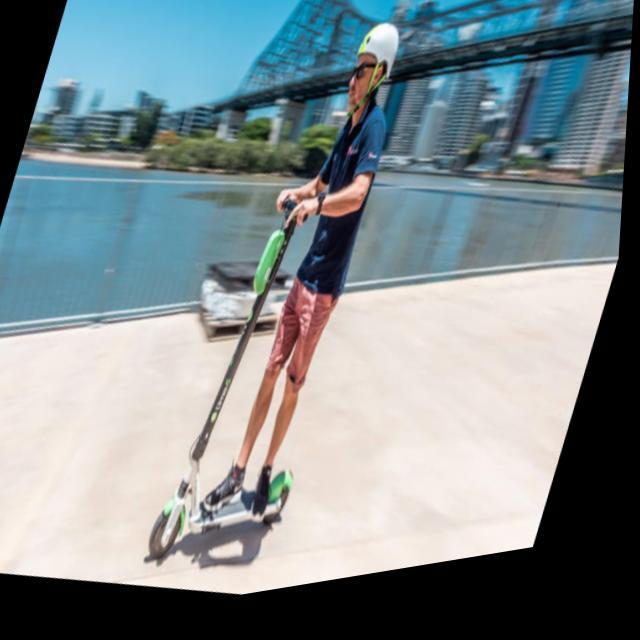Helmet: (339, 12, 403, 114)
